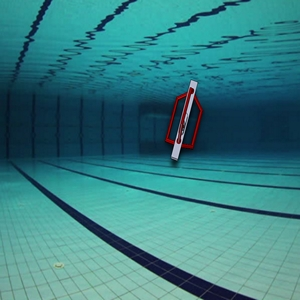submarine: (154, 77, 219, 165)
